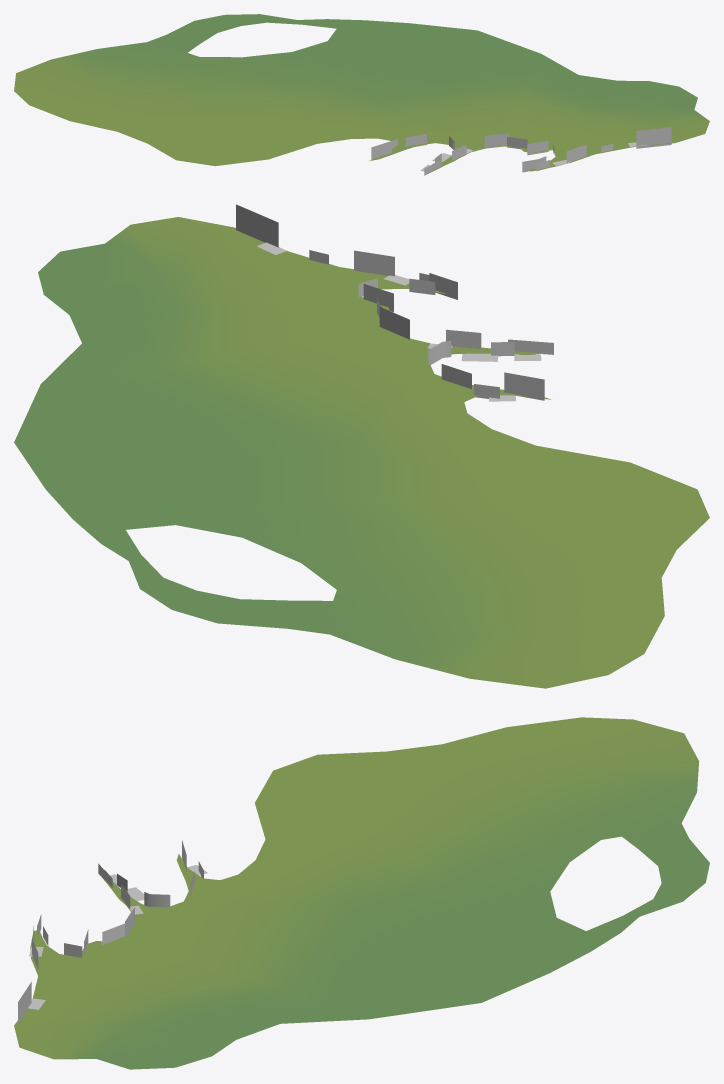
The model's file is Mesh_Battle_Forest_Ground_04.FBX.
3 renders of one model, top to bottom at view 1: azimuth 30°, elevation 25°; view 2: azimuth 150°, elevation 25°; view 3: azimuth 270°, elevation 25°, orthographic. The views are drawn at different scales.
Parts seen in each view (by area): view 1: Mesh_Battle_Forest_Ground_04, Mesh_Battle_Forest_Grass_08; view 2: Mesh_Battle_Forest_Ground_04, Mesh_Battle_Forest_Grass_08; view 3: Mesh_Battle_Forest_Ground_04, Mesh_Battle_Forest_Grass_08.
Part boxes in pixels (<box>): Mesh_Battle_Forest_Ground_04: <box>14,14,709,173</box>; Mesh_Battle_Forest_Grass_08: <box>371,127,671,175</box>; Mesh_Battle_Forest_Ground_04: <box>14,217,709,688</box>; Mesh_Battle_Forest_Grass_08: <box>236,204,553,401</box>; Mesh_Battle_Forest_Ground_04: <box>14,717,709,1069</box>; Mesh_Battle_Forest_Grass_08: <box>18,840,207,1023</box>.
Bounding box in the file's own units: 391 × 13.06 × 326.
